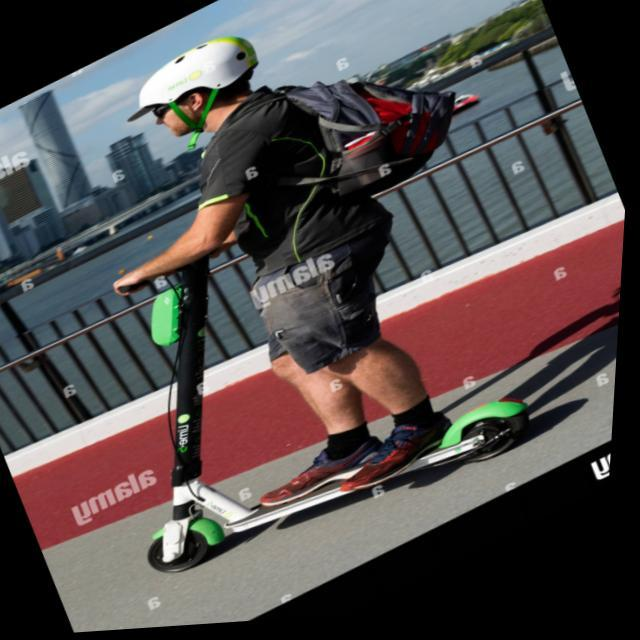Helmet: (124, 29, 266, 140)
